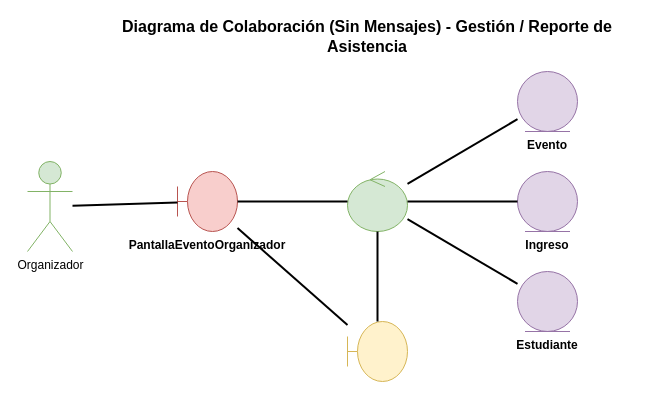
Image size: 665x419. Some labels were removed from this diagram. The centre of each missing label's shape, as x and y in pixels:
"GestionAsistencia" belongs at point 377,201.
"ReporteAsistencia" belongs at point 377,351.
